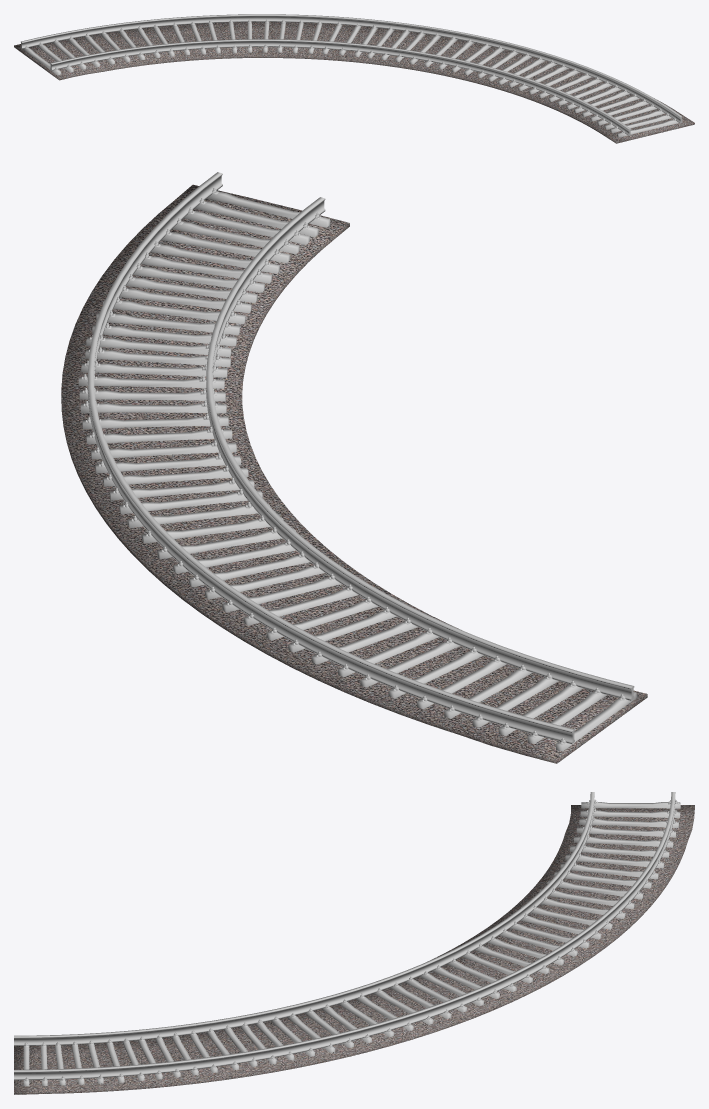
Rendered from track_left1_concrete.fbx.
3 renders of one model, top to bottom at view 1: azimuth 30°, elevation 25°; view 2: azimuth 150°, elevation 25°; view 3: azimuth 270°, elevation 25°, orthographic. The views are drawn at different scales.
Parts seen in each view (by area): view 1: ground, rails, concrete; view 2: ground, concrete, rails; view 3: ground, concrete, rails.
Boxes of the visible parts, bbox=[...] form: ground: bbox=[14, 22, 694, 143]; rails: bbox=[20, 14, 682, 135]; concrete: bbox=[21, 22, 682, 137]; ground: bbox=[61, 184, 647, 763]; concrete: bbox=[78, 191, 636, 751]; rails: bbox=[81, 172, 634, 744]; ground: bbox=[14, 805, 694, 1094]; concrete: bbox=[23, 802, 680, 1086]; rails: bbox=[14, 792, 678, 1081].
Bounding box in the file's own units: 15.66 × 0.3814 × 15.67.
